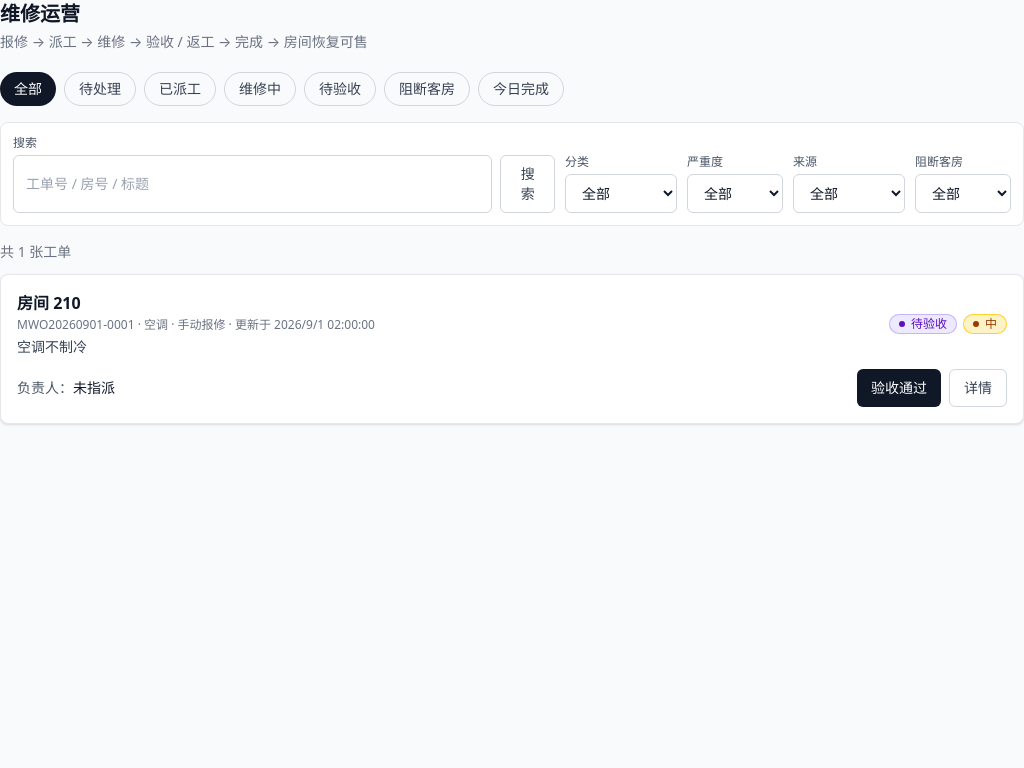
MaintenanceWorkspaceView › IN_PROGRESS + work → 提交验收；RESOLVED + verify → 验收确认框
Expected: the link "房间 210" is shown, [17, 292, 81, 314]
Click the button "验收通过": (899, 388) [857, 369, 941, 407]
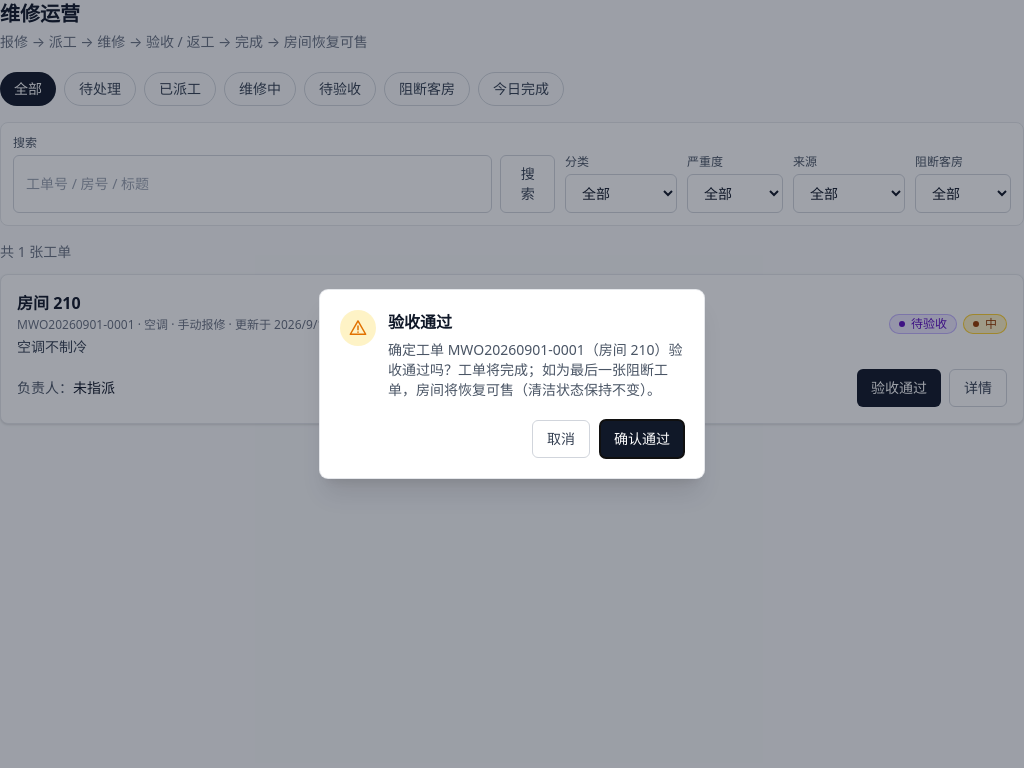
Now the text "验收通过吗" is shown, box [388, 340, 682, 399]
Click the button "确认通过": (642, 439) [600, 420, 684, 458]
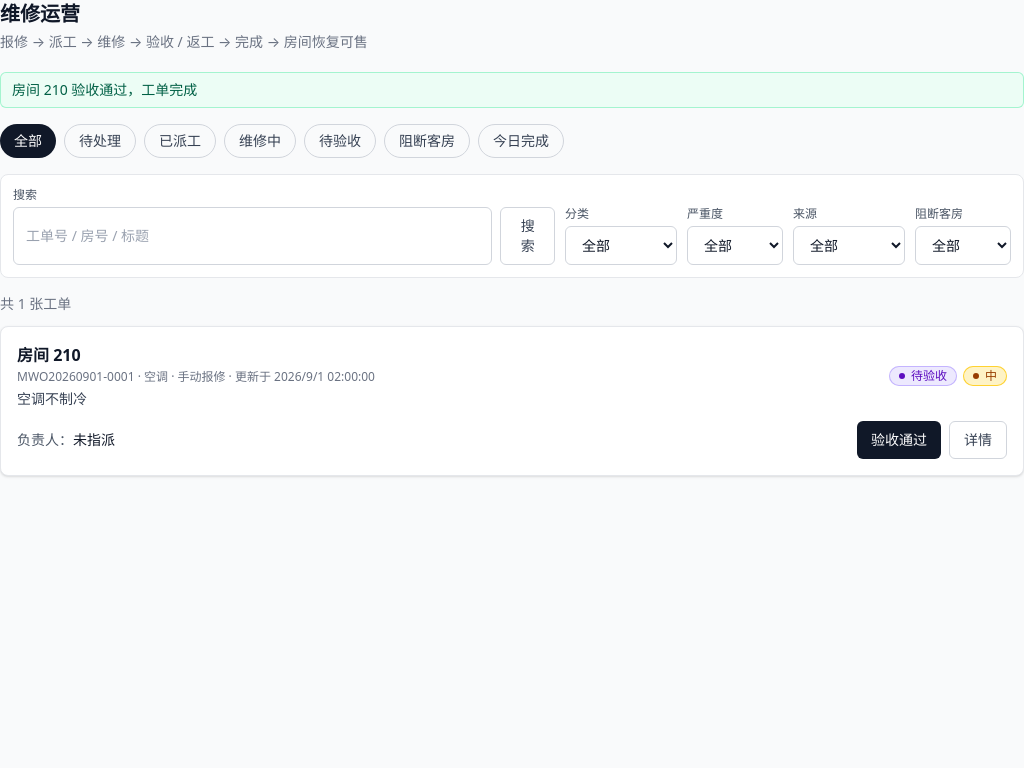
Now the text "房间 210 验收通过，工单完成" is shown, box [0, 72, 1023, 108]
